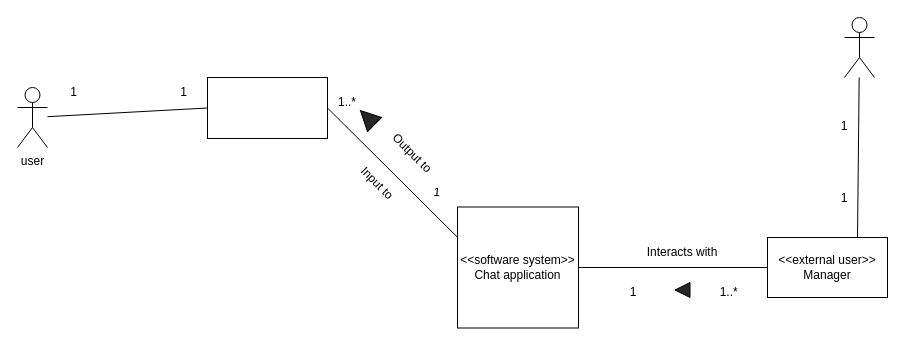
This 905x346 diagram has some shape labels left out. Each missing label, with the centre of its shape:
"<<external I/O device>> Display screen" goes at point (267, 107).
"Admin" goes at point (859, 47).
